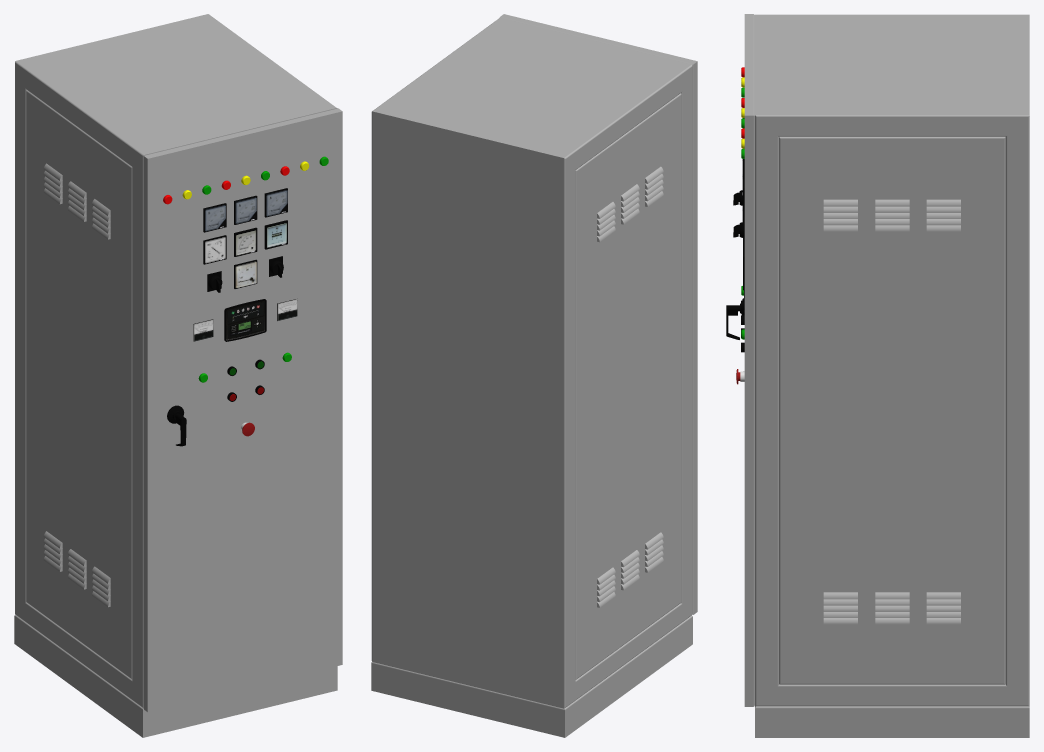
The model's file is tablero.glb.
3 views of the same model, side by side, from view 1: azimuth 30°, elevation 25°; view 2: azimuth 150°, elevation 25°; view 3: azimuth 270°, elevation 25° (orthographic). The views are drawn at different scales.
Visible parts, largest first — view 1: G-Object.001, _G-Object.033 (Loose Mesh), G-Object.123, G-Object.032, _C-DeepSea 7510#2 (Loose Mesh), _G-Object.008 (Loose Mesh), _G-Object.009 (Loose Mesh), _G-Object.002 (Loose Mesh), _C-Component#2 (Loose Mesh), _G-Object.013 (Loose Mesh), _G-Object.003 (Loose Mesh), _G-Object.012 (Loose Mesh); view 2: G-Object.123, _G-Object.033 (Loose Mesh), G-Object.032, G-Object.001; view 3: _G-Object.078 (Loose Mesh), G-Object.123, G-Object.032, G-Object.001.
Part boxes in pixels (left/top/right/bottom): G-Object.001: left=143, top=108, right=342, bottom=712; _G-Object.033 (Loose Mesh): left=26, top=90, right=132, bottom=679; G-Object.123: left=15, top=14, right=337, bottom=708; G-Object.032: left=14, top=615, right=337, bottom=737; _C-DeepSea 7510#2 (Loose Mesh): left=224, top=299, right=266, bottom=341; _G-Object.008 (Loose Mesh): left=203, top=203, right=226, bottom=232; _G-Object.009 (Loose Mesh): left=203, top=235, right=226, bottom=264; _G-Object.002 (Loose Mesh): left=234, top=259, right=257, bottom=288; _C-Component#2 (Loose Mesh): left=234, top=227, right=257, bottom=256; _G-Object.013 (Loose Mesh): left=264, top=188, right=287, bottom=217; _G-Object.003 (Loose Mesh): left=264, top=220, right=287, bottom=249; _G-Object.012 (Loose Mesh): left=234, top=195, right=257, bottom=224; G-Object.123: left=371, top=18, right=692, bottom=708; _G-Object.033 (Loose Mesh): left=575, top=93, right=681, bottom=679; G-Object.032: left=371, top=615, right=692, bottom=737; G-Object.001: left=499, top=14, right=697, bottom=614; _G-Object.078 (Loose Mesh): left=779, top=136, right=1005, bottom=684; G-Object.123: left=755, top=14, right=1029, bottom=706; G-Object.032: left=755, top=706, right=1029, bottom=737; G-Object.001: left=744, top=14, right=754, bottom=706.
Size of the model in its own units: 0.72 by 2 by 0.8842.
Materials: 26 (8 with a texture image).
